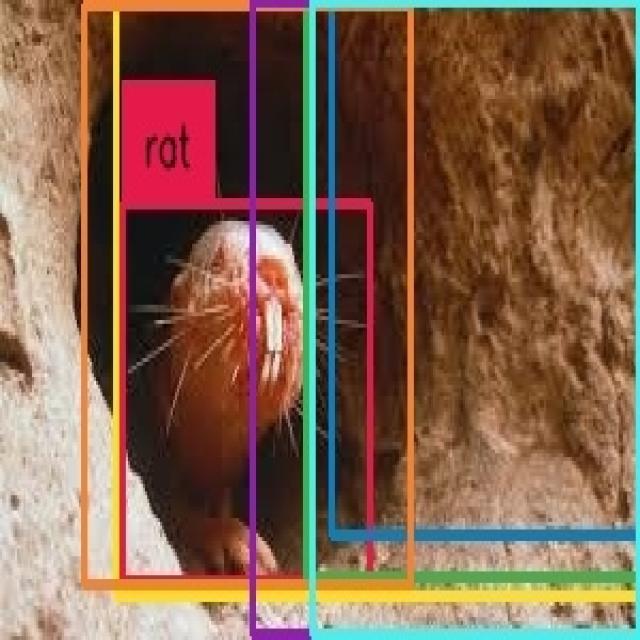rat: (116, 0, 638, 594), (252, 2, 638, 634), (312, 0, 638, 632), (306, 2, 639, 577), (84, 6, 411, 584), (330, 0, 640, 533), (123, 206, 370, 583)
